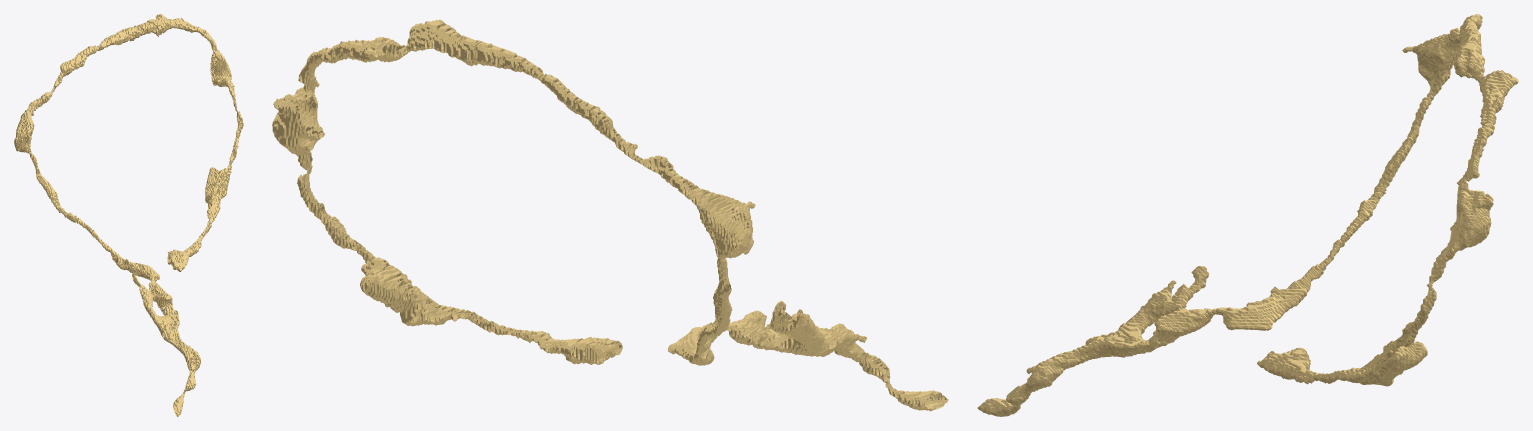
File: SVV_RIML.gltf
3 renders of one model, left to right at view 1: azimuth 30°, elevation 25°; view 2: azimuth 150°, elevation 25°; view 3: azimuth 270°, elevation 25°, orthographic. The views are drawn at different scales.
Parts seen in each view (by area): view 1: RIML; view 2: RIML; view 3: RIML.
Boxes of the visible parts, box(x1,y1,x2,y2) form: RIML: box(14, 14, 243, 416); RIML: box(272, 19, 948, 411); RIML: box(977, 14, 1518, 416).
Bounding box in the file's own units: 138796 × 156297 × 165858.
